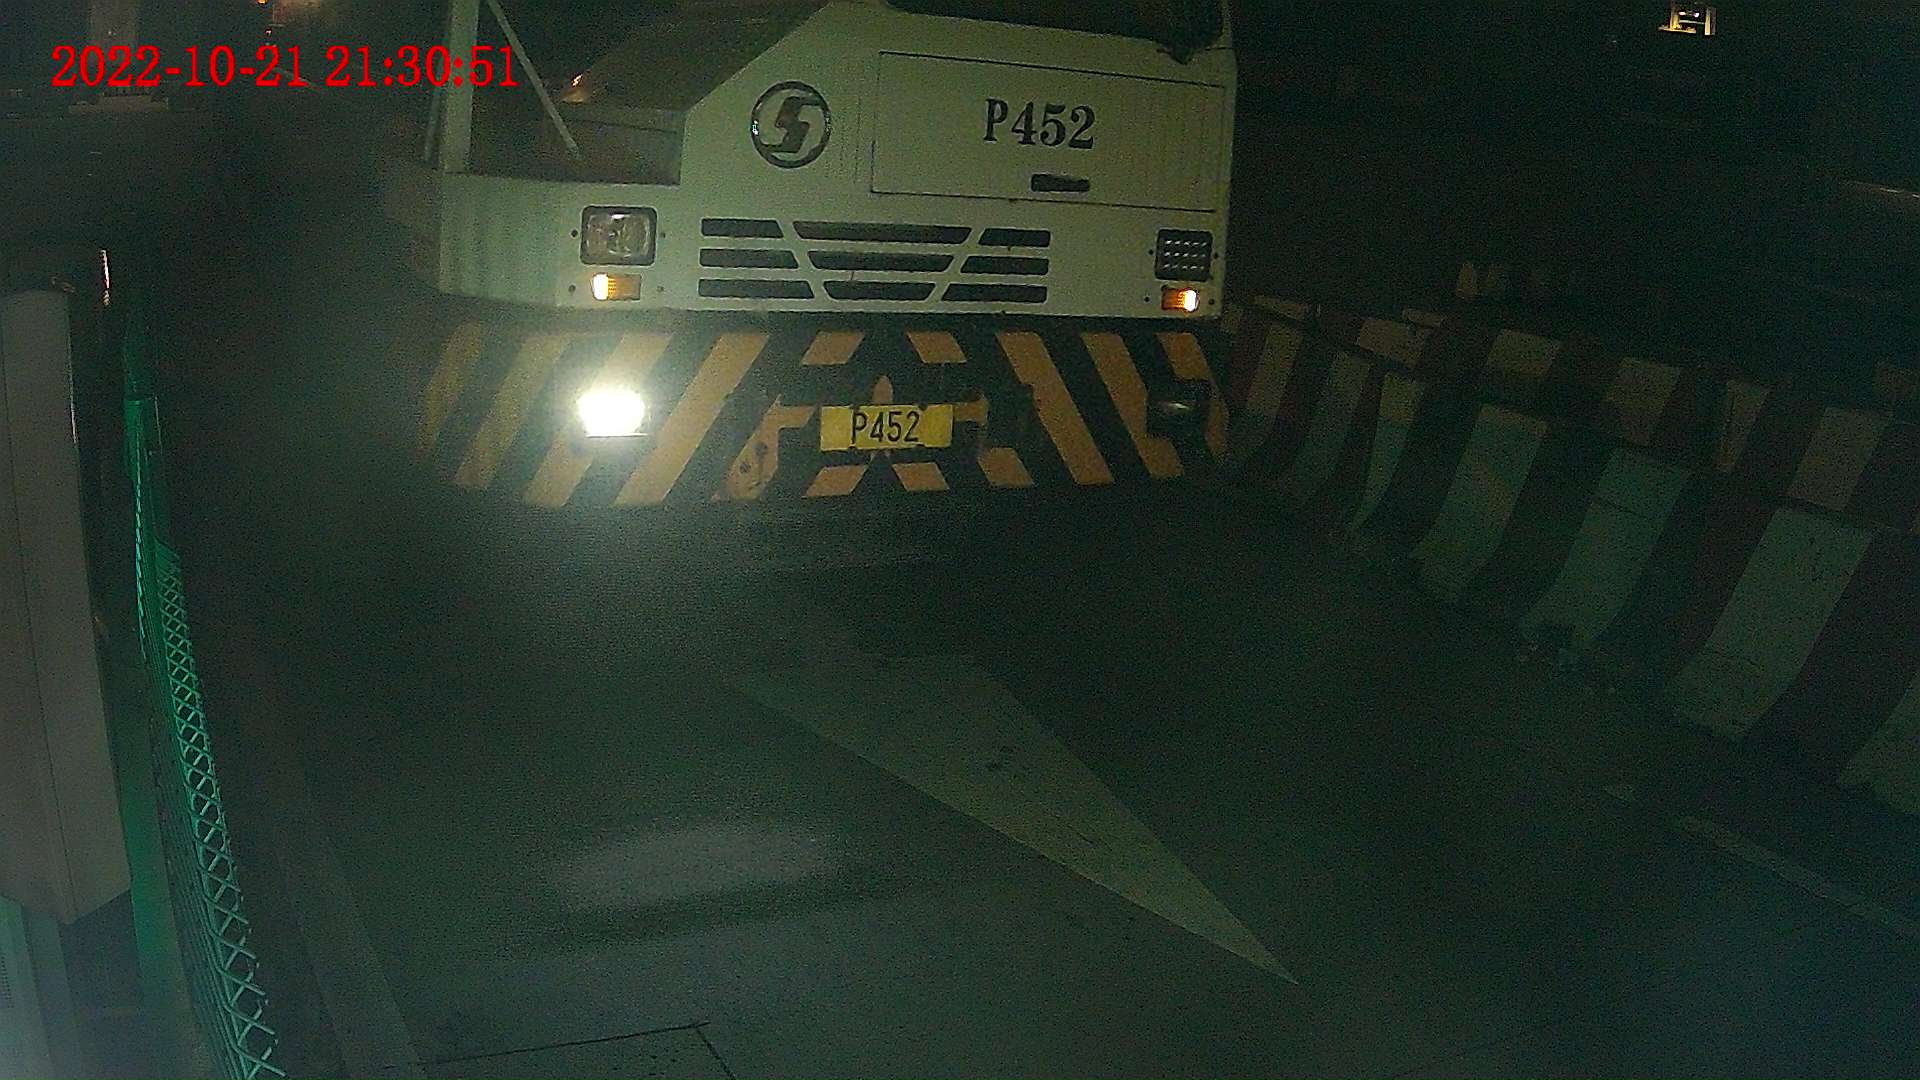head: (366, 1, 1242, 520)
plate: (818, 402, 946, 451)
